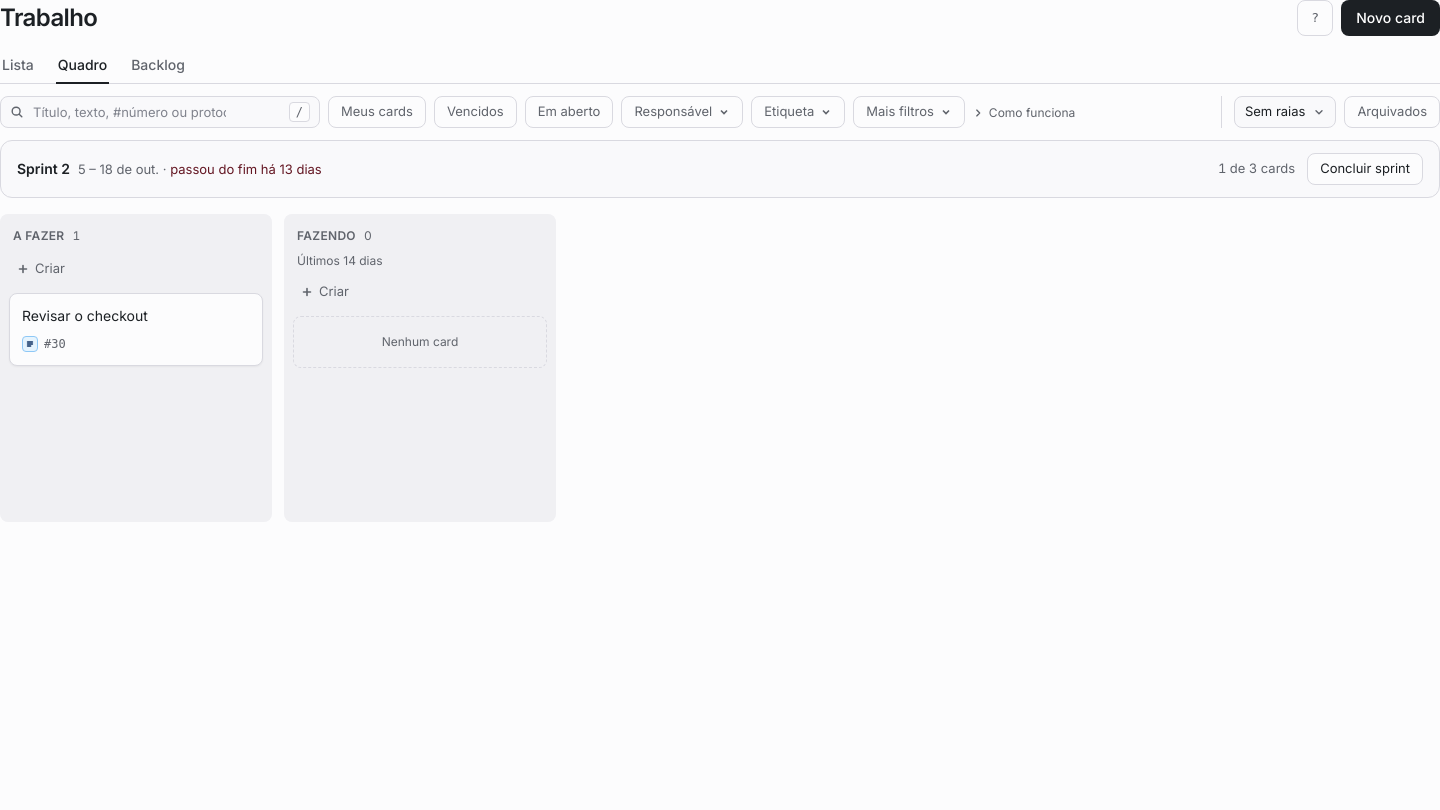
o card novo, com as sprints ligadas › no quadro, o card que nasce no backlog avisa que nao aparece ali, e "Levar para a Sprint 2" o poe na sprint e no quadro
The image size is (1440, 810).
Expected: the element named "Sprint em andamento: Sprint 2" is shown, x1=0 y1=140 x2=1439 y2=198
Expected: the text "Revisar o checkout" is shown, x1=22 y1=307 x2=148 y2=324
Click the button "Novo card". click: (1391, 18)
box: x1=1341 y1=0 x2=1439 y2=36
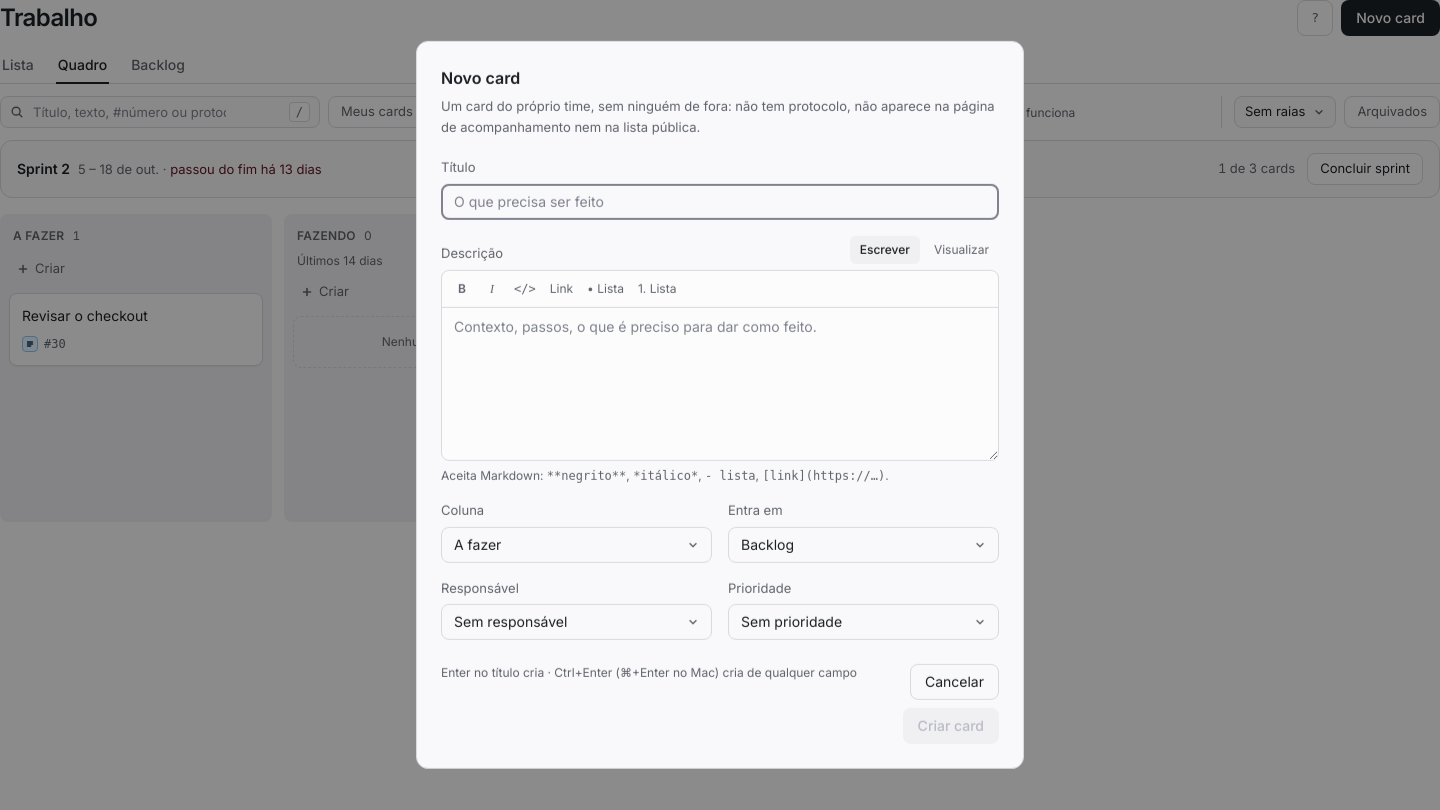
Now the dropdown named "Entra em" reads "Backlog", box x1=728 y1=527 x2=999 y2=563
Type "Trocar o gateway" into the field labelled "Título". click: (720, 202)
box: x1=441 y1=184 x2=999 y2=220
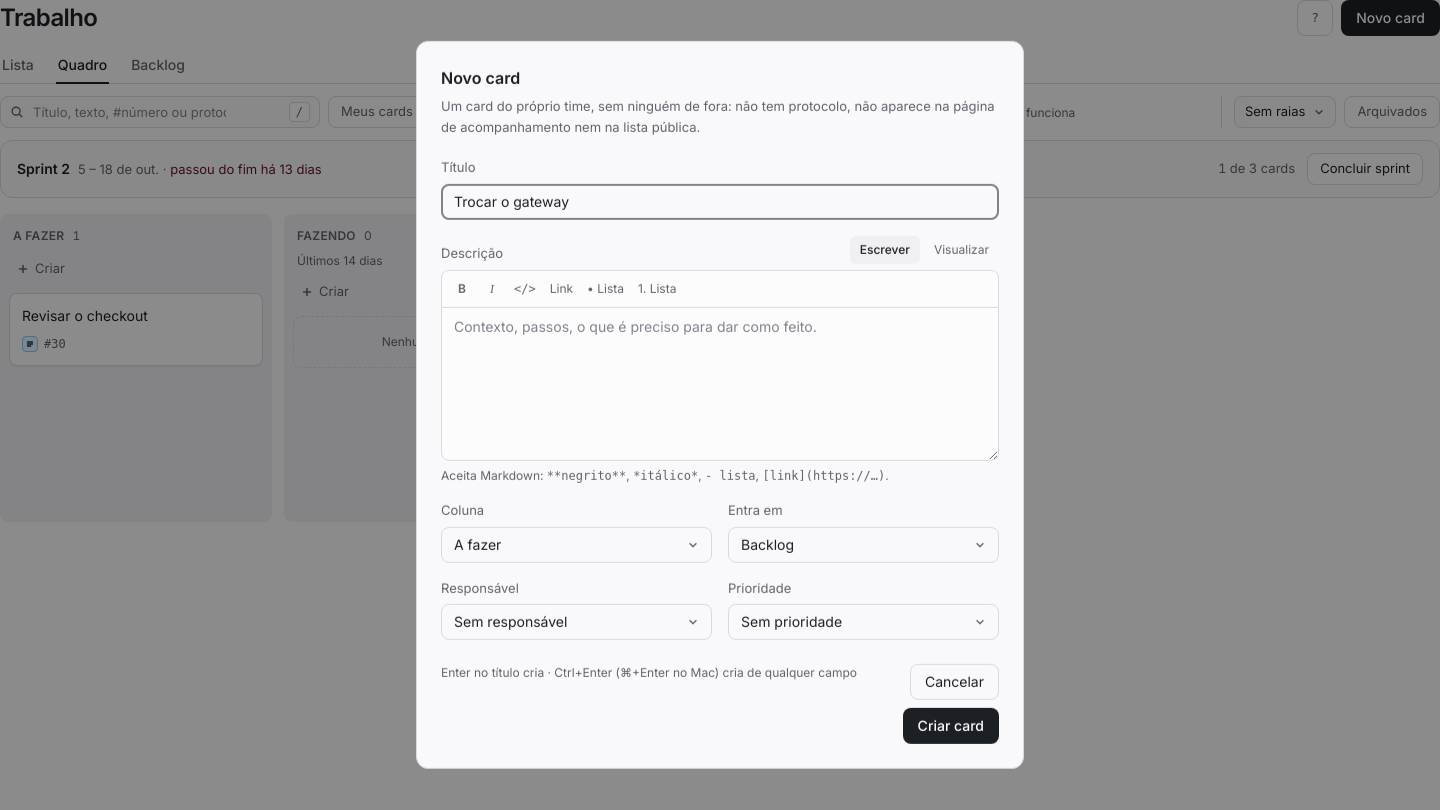
Click the button "Criar card". click: (951, 726)
box: x1=903 y1=708 x2=999 y2=744
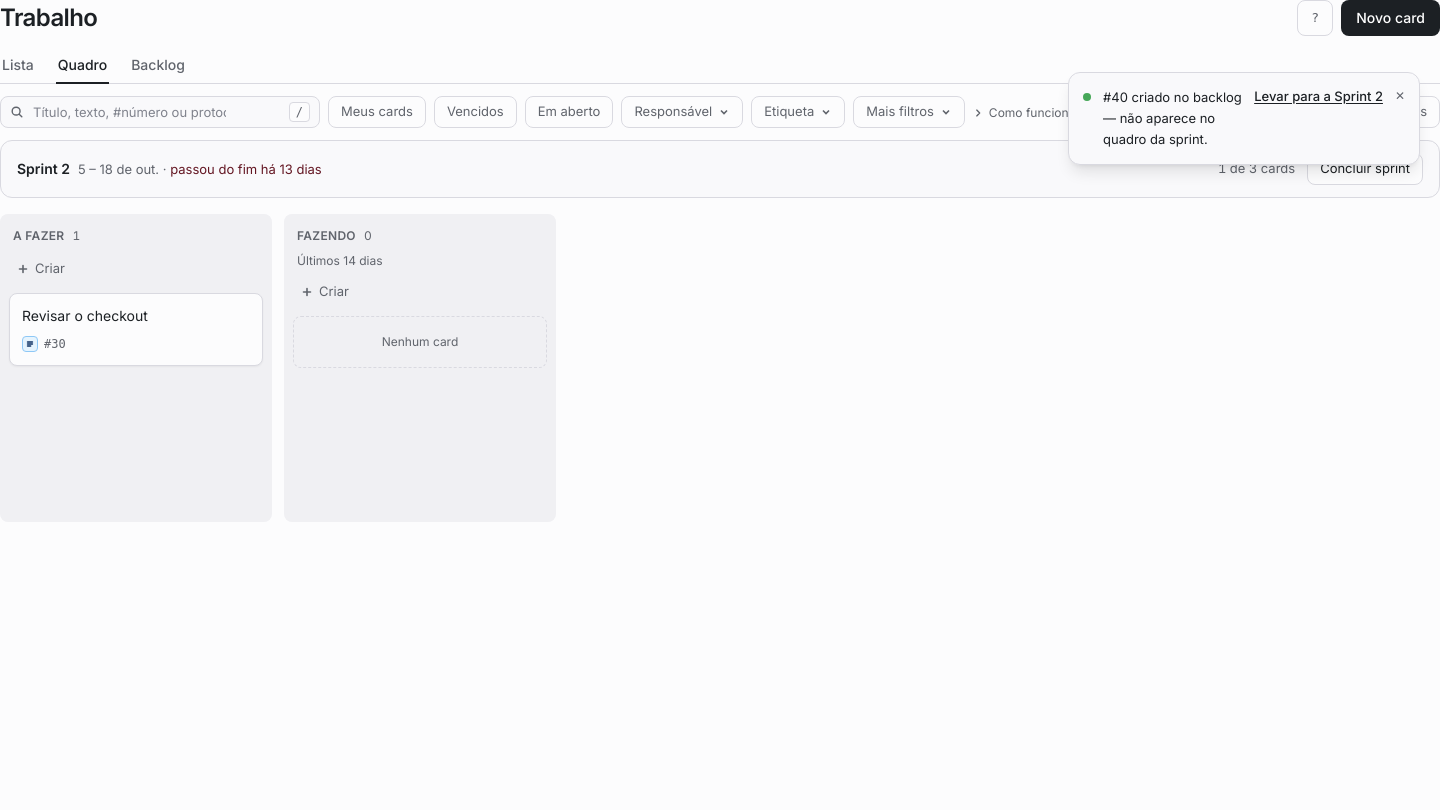
Expected: the text "Trocar o gateway" is not shown
Now the dialog is gone
Click the button "Levar para a Sprint 2". click: (1319, 97)
box: x1=1254 y1=87 x2=1383 y2=106
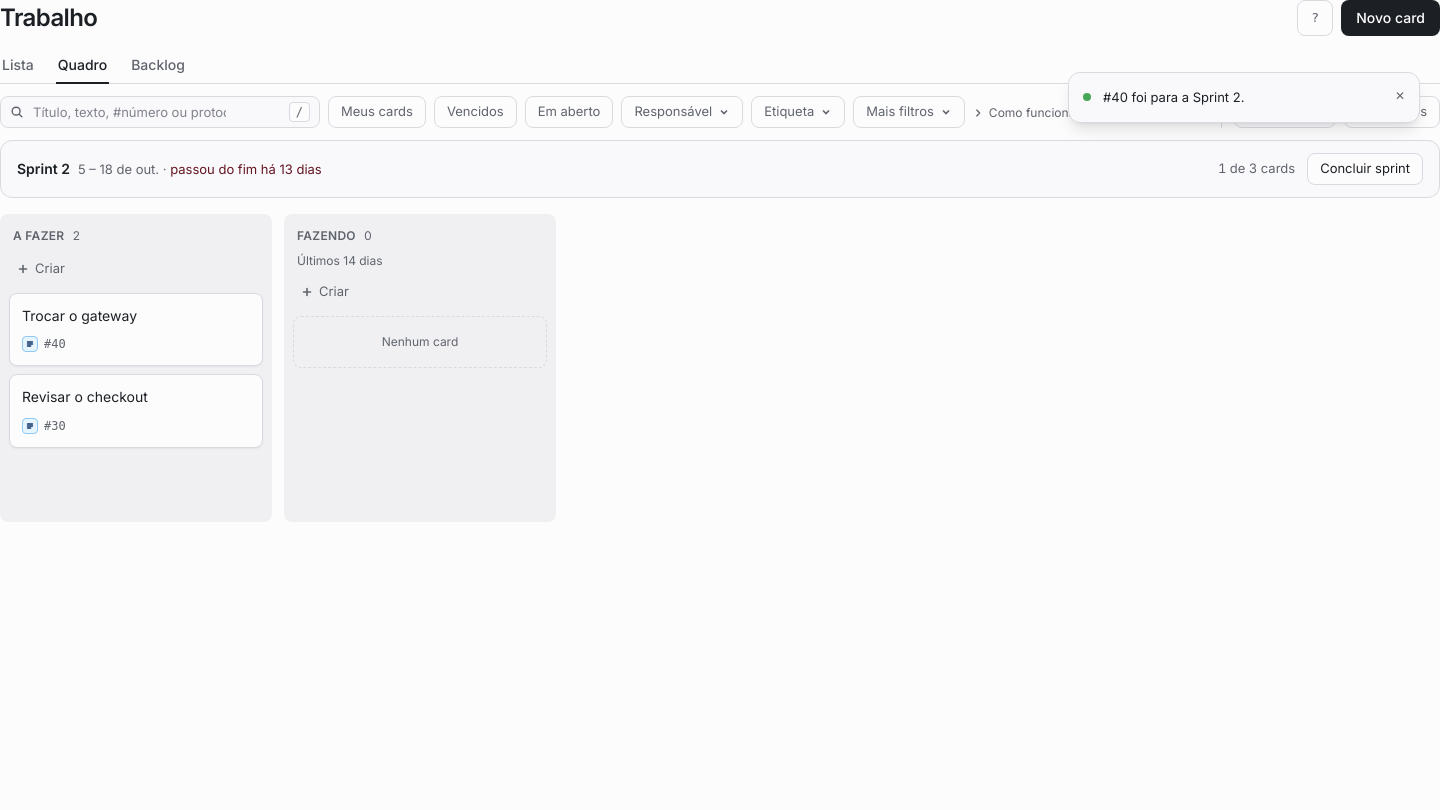
Now the text "Trocar o gateway" is shown, box x1=22 y1=307 x2=137 y2=324
Now the text "#40 foi para a Sprint 2." is shown, box x1=1103 y1=89 x2=1244 y2=105
